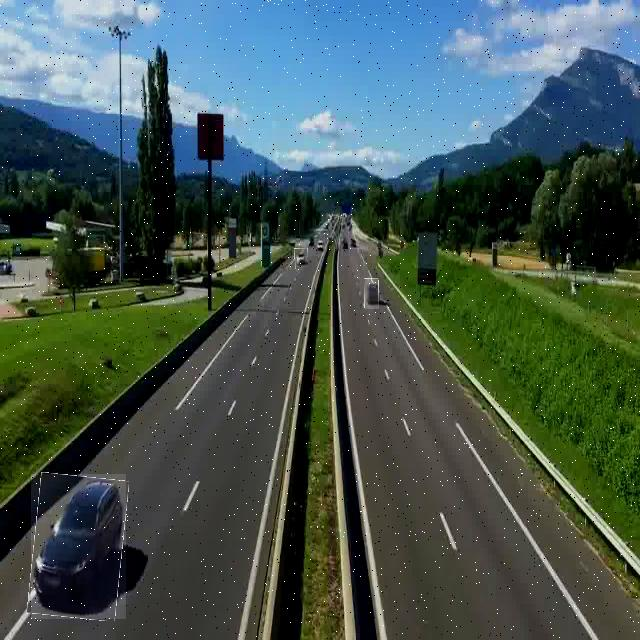Car: (31, 474, 126, 619), (365, 278, 379, 309), (295, 248, 308, 269)
